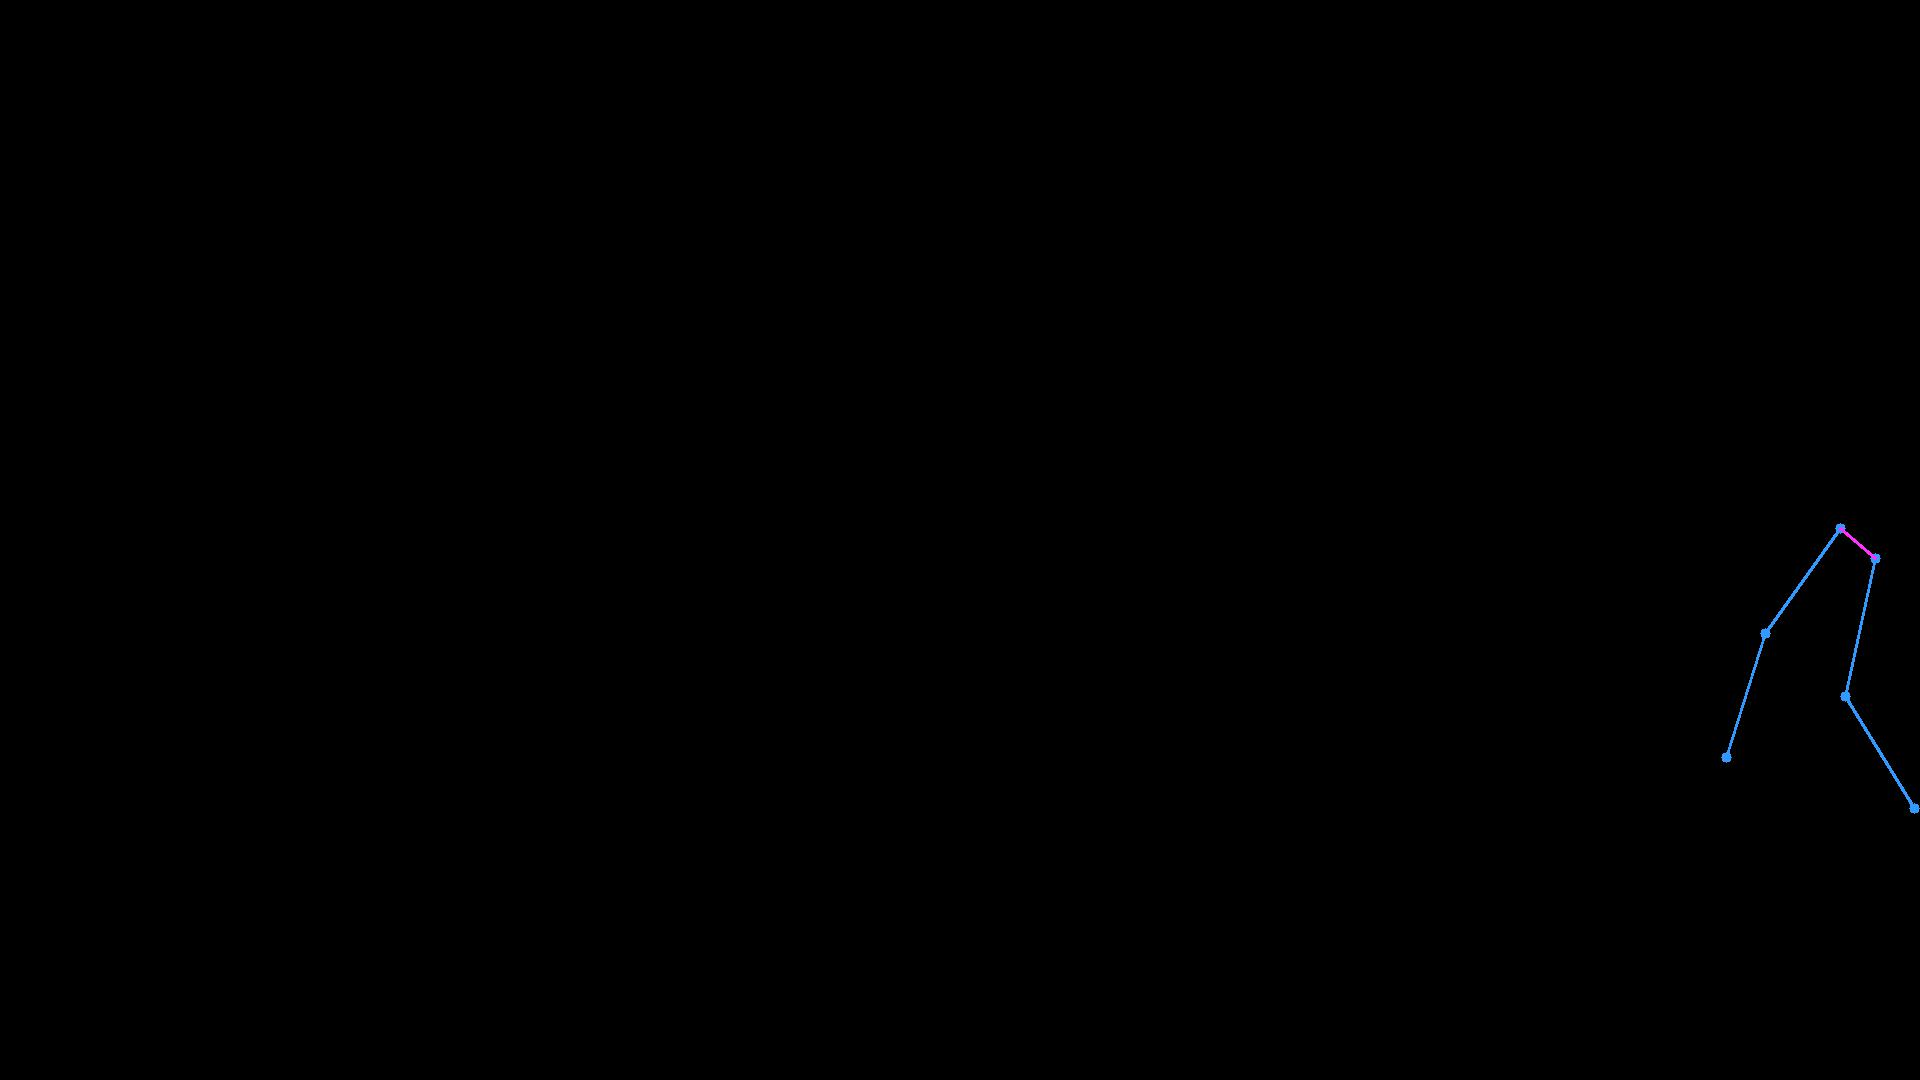normal: (1688, 477, 1920, 837)
